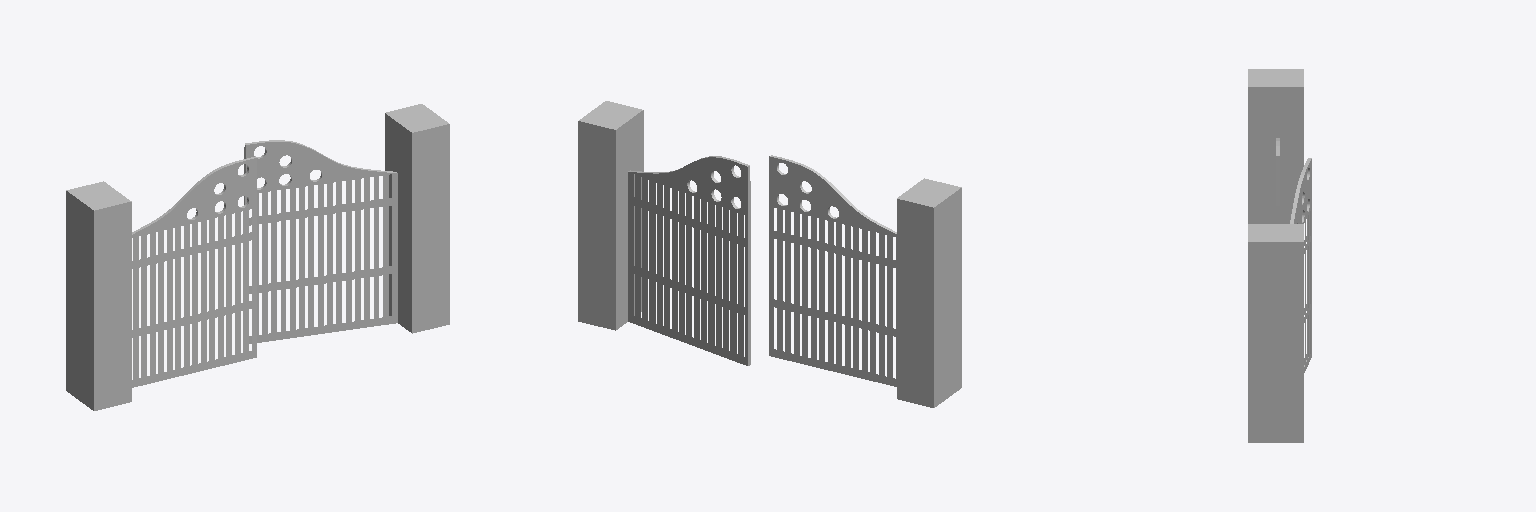
Rendered from uploads_files_2232186_Gate.obj.
The picture shows the model from 3 angles: view 1: azimuth 30°, elevation 25°; view 2: azimuth 150°, elevation 25°; view 3: azimuth 270°, elevation 25°; orthographic projection.
Parts seen in each view (by area): view 1: Gate_Plane.001; view 2: Gate_Plane.001; view 3: Gate_Plane.001.
Boxes of the visible parts, <box> form: Gate_Plane.001: <box>66,104,449,410</box>; Gate_Plane.001: <box>578,101,961,407</box>; Gate_Plane.001: <box>1248,69,1311,442</box>.
Bounding box in the file's own units: 14.84 × 8 × 2.29.